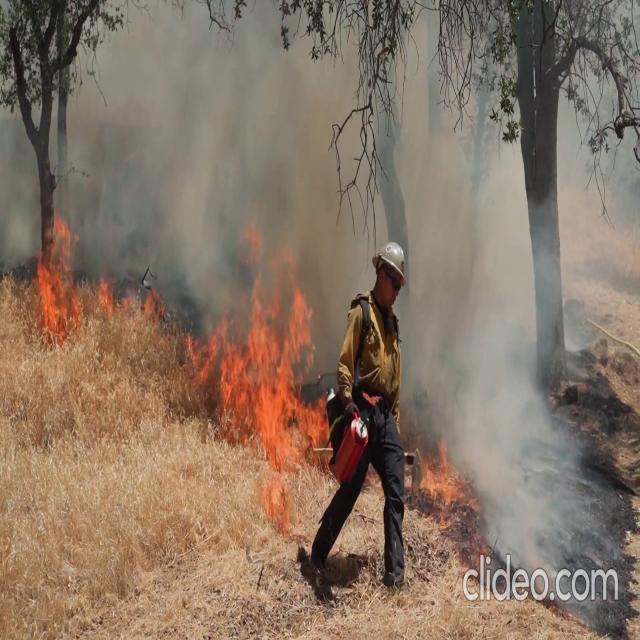Fire: (214, 272, 324, 462), (27, 210, 160, 334), (28, 206, 79, 334)
Smoke: (394, 41, 632, 584), (0, 4, 328, 283)
